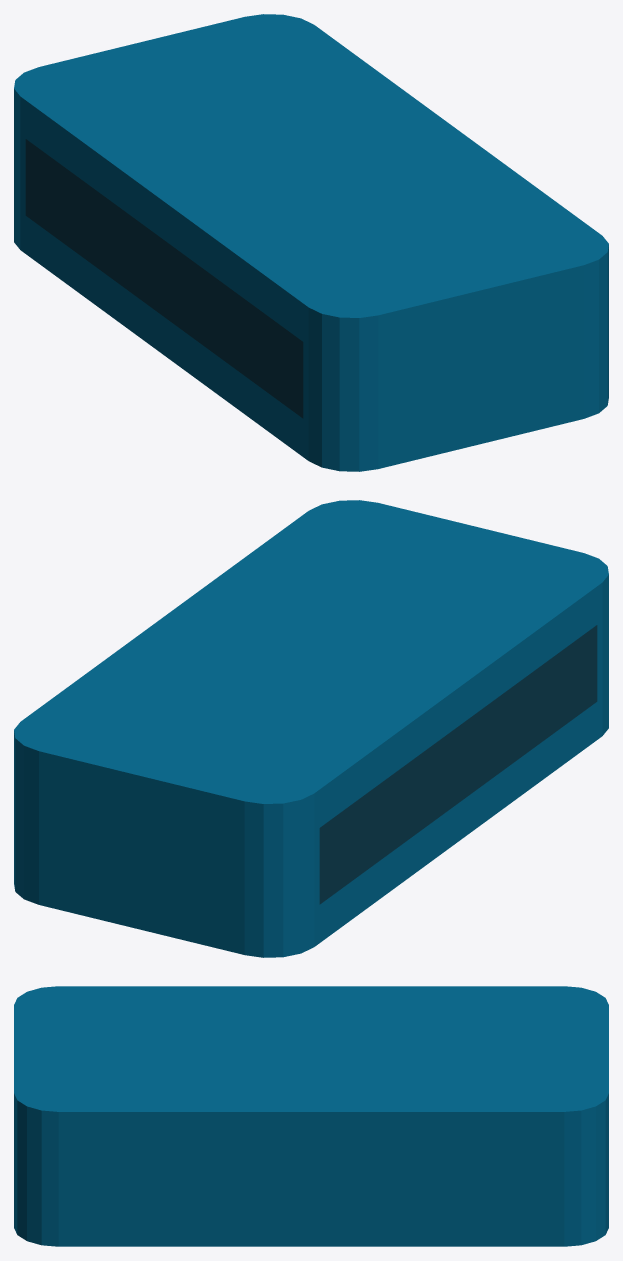
Rendered from G01_023_ShelfD.fbx.
3 renders of one model, top to bottom at view 1: azimuth 30°, elevation 25°; view 2: azimuth 150°, elevation 25°; view 3: azimuth 270°, elevation 25°, orthographic. The views are drawn at different scales.
Parts seen in each view (by area): view 1: 013_Cage_03_B, 立方体.085; view 2: 013_Cage_03_B, 立方体.085; view 3: 013_Cage_03_B.
Boxes of the visible parts, x1=… form: 013_Cage_03_B: x1=14, y1=14, x2=608, y2=471; 立方体.085: x1=25, y1=139, x2=303, y2=418; 013_Cage_03_B: x1=14, y1=500, x2=608, y2=957; 立方体.085: x1=319, y1=625, x2=597, y2=904; 013_Cage_03_B: x1=14, y1=986, x2=608, y2=1246.
Bounding box in the file's own units: 200 × 100 × 400.
